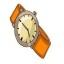watch: (12, 9, 43, 49)
